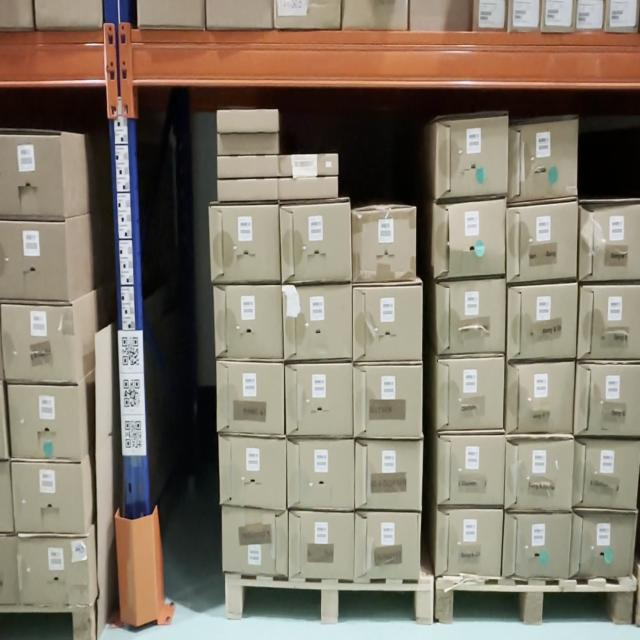box: (282, 205, 350, 278), (439, 124, 507, 197), (354, 366, 423, 436), (509, 357, 571, 434), (210, 210, 279, 278), (436, 285, 502, 356), (216, 290, 282, 360), (286, 366, 351, 436), (356, 293, 420, 364), (286, 288, 352, 356), (436, 212, 504, 278), (440, 438, 506, 506), (513, 126, 575, 198), (287, 440, 352, 508), (507, 439, 570, 509), (359, 442, 420, 514), (509, 210, 576, 275), (217, 367, 281, 434), (438, 363, 504, 427), (509, 291, 576, 354), (218, 442, 286, 504), (357, 213, 414, 281), (438, 513, 502, 573), (290, 517, 356, 575), (225, 513, 285, 575), (358, 517, 421, 576), (507, 517, 569, 573), (577, 517, 635, 576), (217, 110, 279, 132), (279, 177, 339, 197), (220, 181, 278, 201), (216, 159, 277, 177), (218, 138, 277, 154), (278, 160, 336, 174)
